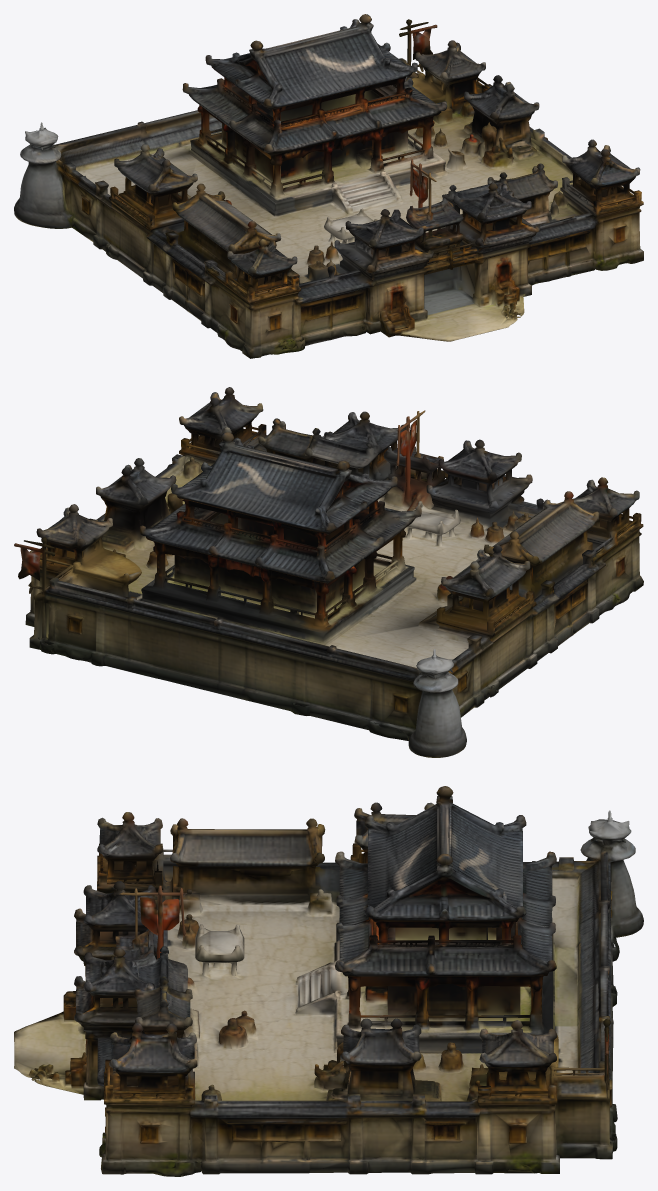
The model's file is JingxiangGrandStation.glb.
3 renders of one model, top to bottom at view 1: azimuth 30°, elevation 25°; view 2: azimuth 150°, elevation 25°; view 3: azimuth 270°, elevation 25°, orthographic. The views are drawn at different scales.
Parts seen in each view (by area): view 1: node_0; view 2: node_0; view 3: node_0.
Boxes of the visible parts, left/top/right/bottom form: node_0: left=14, top=14, right=643, bottom=358; node_0: left=14, top=387, right=643, bottom=757; node_0: left=14, top=786, right=643, bottom=1176.
Bounding box in the file's own units: 0.8451 × 0.3422 × 0.8417.
1 material, 1 textured.
